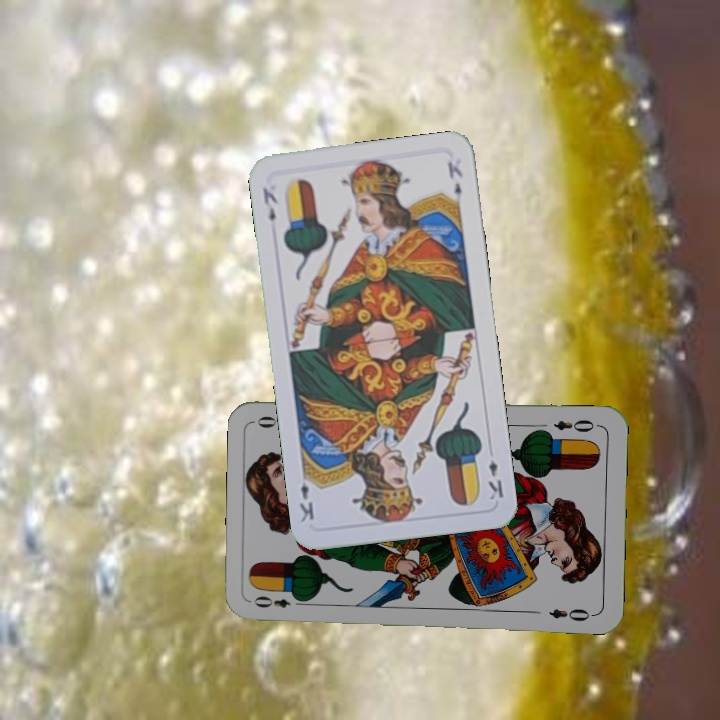EK: (484, 456, 506, 503), (258, 183, 280, 224)
EO: (250, 591, 307, 611), (550, 415, 602, 434)
